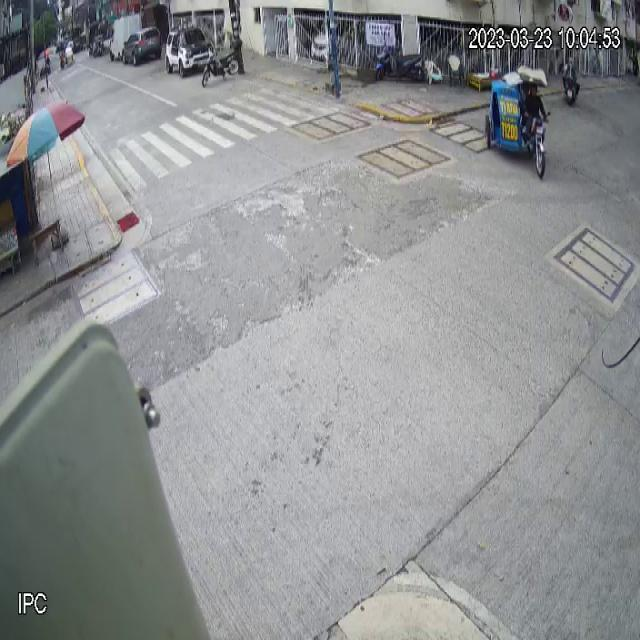Tricycle: (483, 65, 553, 183)
